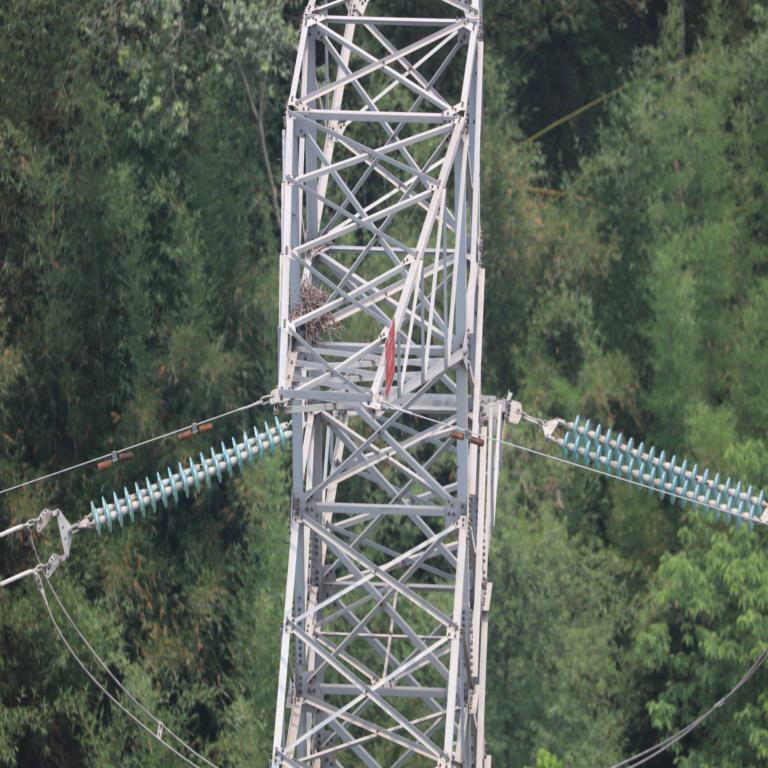nest: (296, 286, 331, 349)
